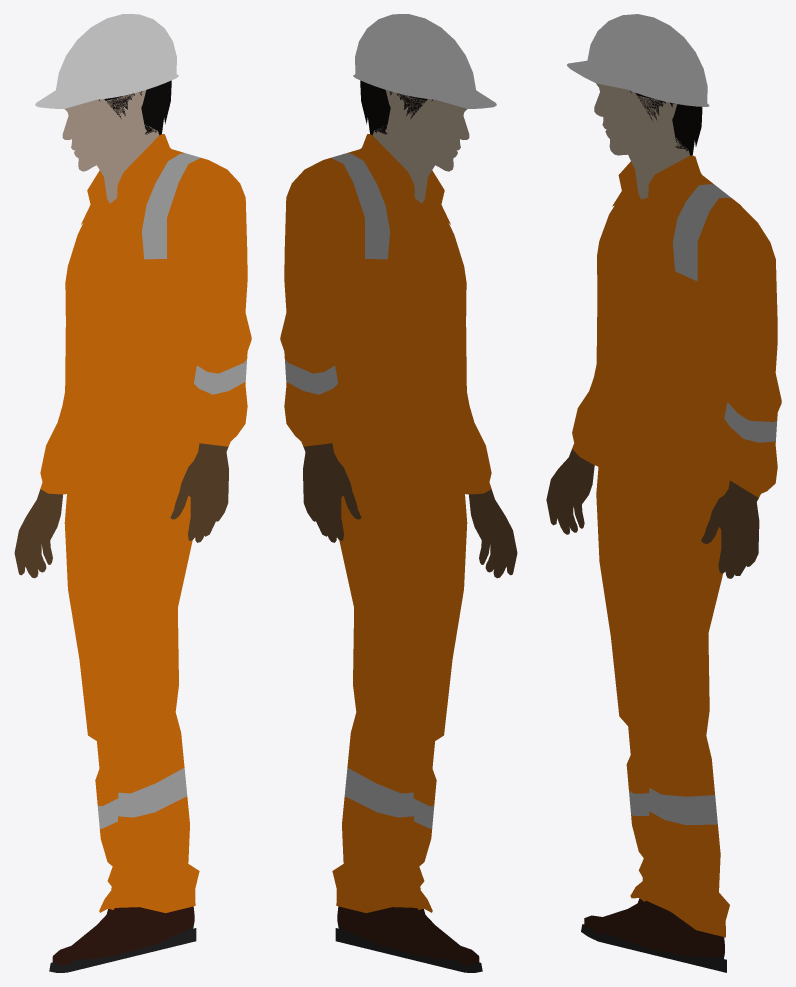
File: Obrero.fbx
3 views of the same model, side by side, from view 1: azimuth 30°, elevation 25°; view 2: azimuth 150°, elevation 25°; view 3: azimuth 330°, elevation 25° (orthographic).
Visible parts, largest first — view 1: Model; view 2: Model; view 3: Model.
Part boxes in pixels (bbox=[...]): Model: bbox=[14, 14, 251, 972]; Model: bbox=[280, 14, 517, 972]; Model: bbox=[546, 14, 781, 972].
Size of the model in its own units: 46.76 by 178 by 1.1e-11.
